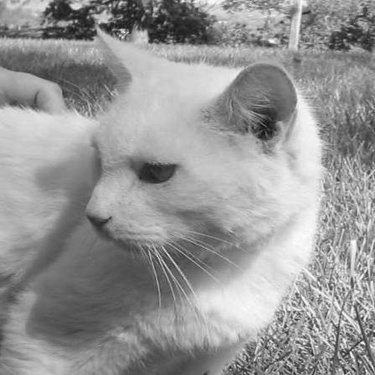cat: (3, 27, 323, 371)
